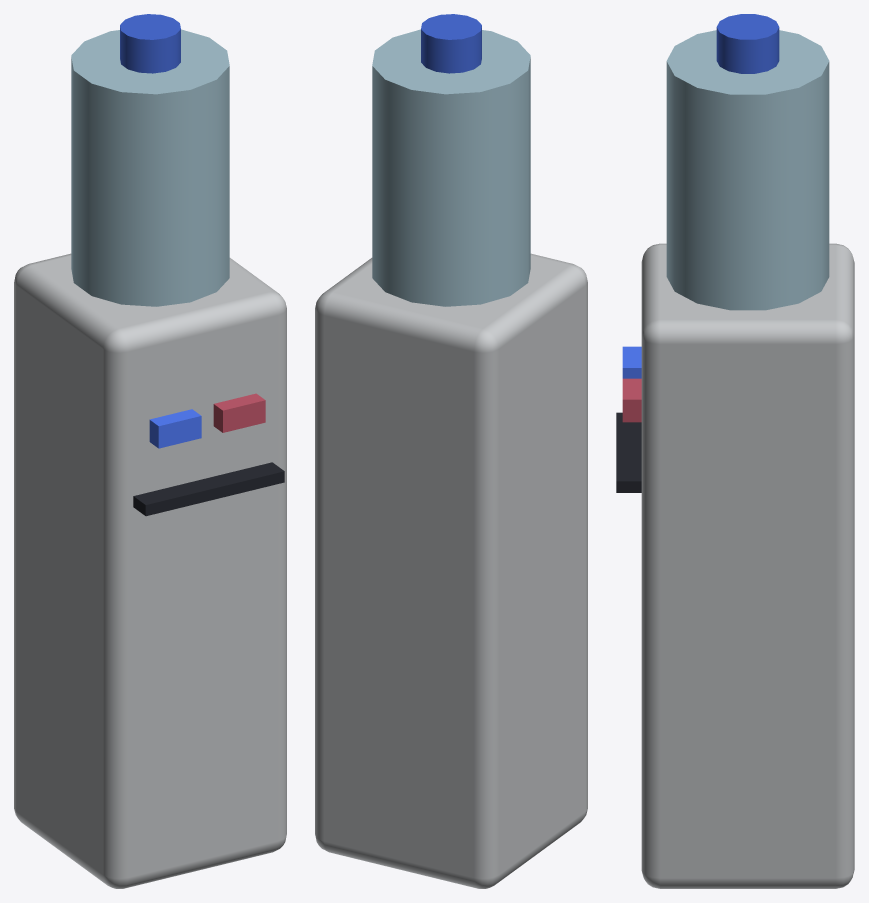
The model's file is bebedouro.glb.
3 renders of one model, left to right at view 1: azimuth 30°, elevation 25°; view 2: azimuth 150°, elevation 25°; view 3: azimuth 270°, elevation 25°, orthographic.
Parts seen in each view (by area): view 1: bebedouro_malha; view 2: bebedouro_malha; view 3: bebedouro_malha.
Part boxes in pixels (left/top/right/bottom): bebedouro_malha: left=14, top=14, right=286, bottom=888; bebedouro_malha: left=315, top=14, right=587, bottom=888; bebedouro_malha: left=616, top=14, right=854, bottom=888.
Size of the model in its own units: 0.34 by 1.45 by 0.38.
